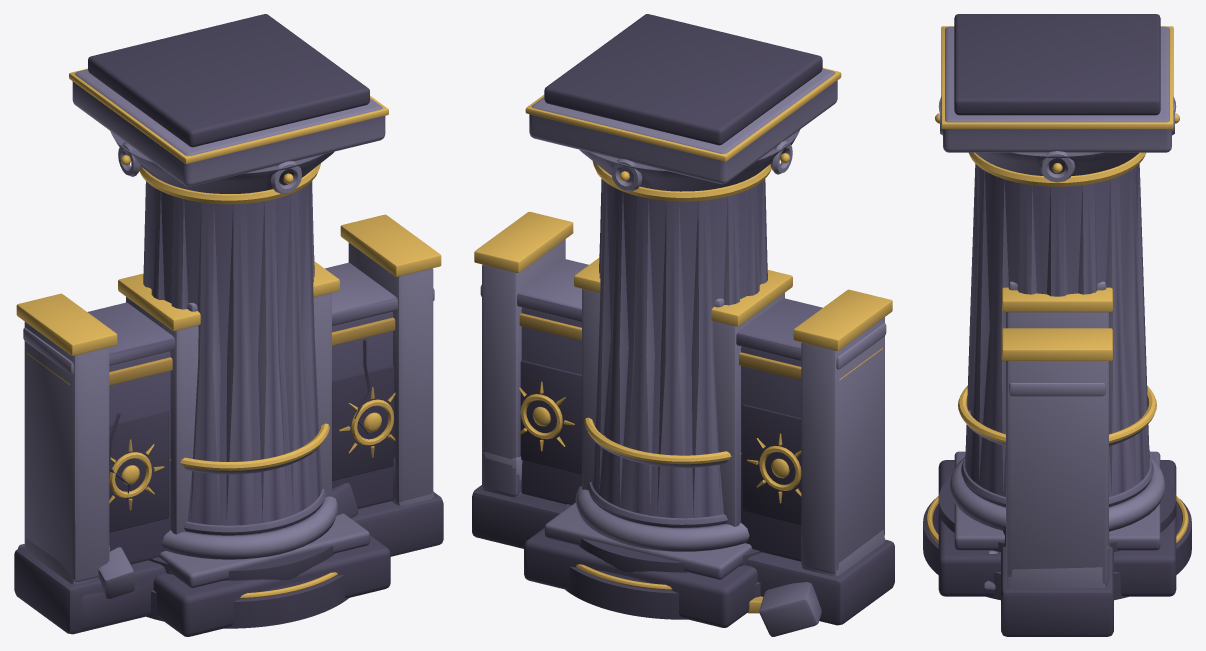
File: temple_props.glb
3 renders of one model, left to right at view 1: azimuth 30°, elevation 25°; view 2: azimuth 150°, elevation 25°; view 3: azimuth 270°, elevation 25°, orthographic.
Visible parts, largest first — view 1: Column__light, Wall__light, Column__dark, Wall__dark, Wall__gold, Wall__stone, Column__stone, Altar__dark, Column__gold, WallRubble__dark, Altar__gold, WallRubble__stone (+1 smaller); view 2: Column__light, Wall__light, Column__dark, Wall__dark, Wall__gold, Wall__stone, Column__stone, Altar__dark, Column__gold, WallRubble__stone, Altar__gold, WallRubble__light; view 3: Column__light, Column__dark, Wall__light, Column__stone, Wall__dark, Wall__gold, Column__gold, Altar__dark, WallRubble__light, Altar__gold.
Boxes of the visible parts, x1,y1,x2,y2 form: Column__light: (72,69,385,559); Wall__light: (23,243,434,582); Column__dark: (88,14,390,636); Wall__dark: (14,365,443,634); Wall__gold: (16,214,441,510); Wall__stone: (109,311,393,564); Column__stone: (110,131,369,587); Altar__dark: (146,545,348,628); Column__gold: (69,68,388,204); WallRubble__dark: (79,483,358,630); Altar__gold: (170,423,337,598); WallRubble__stone: (18,544,135,598); Column__light: (529,68,837,551); Wall__light: (480,239,886,573); Column__dark: (524,14,822,627); Wall__dark: (472,360,894,625); Wall__gold: (474,211,892,503); Wall__stone: (521,307,801,561); Column__stone: (544,129,800,579); Altar__dark: (565,504,762,619); Column__gold: (525,68,841,201); WallRubble__stone: (759,582,821,636); Altar__gold: (576,417,741,590); WallRubble__light: (482,451,884,576); Column__light: (940,26,1174,531); Column__dark: (938,14,1176,596); Wall__light: (1006,281,1108,584); Column__stone: (938,97,1176,550); Wall__dark: (1001,546,1113,636); Wall__gold: (1002,287,1112,360); Column__gold: (935,26,1179,186); Altar__dark: (923,476,1191,600); WallRubble__light: (984,534,1109,589); Altar__gold: (926,385,1188,543).
Bounding box in the file's own units: 3.26 × 4.23 × 2.04.
